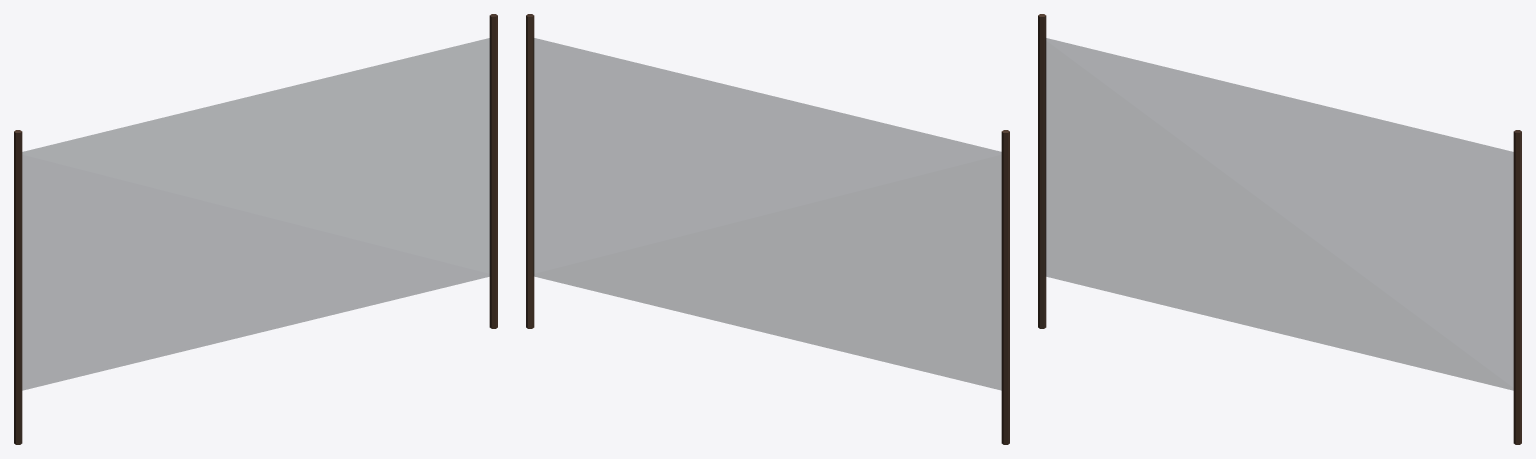
Rendered from lf_metal_fence_both_sides.glb.
The picture shows the model from 3 angles, left to right: view 1: azimuth 30°, elevation 25°; view 2: azimuth 150°, elevation 25°; view 3: azimuth 330°, elevation 25°; orthographic projection.
Visible parts, largest first — view 1: metalfence_both_sides_no_topbar; view 2: metalfence_both_sides_no_topbar; view 3: metalfence_both_sides_no_topbar.
Part boxes in pixels (bbox=[...]): metalfence_both_sides_no_topbar: bbox=[14, 14, 497, 444]; metalfence_both_sides_no_topbar: bbox=[526, 14, 1009, 444]; metalfence_both_sides_no_topbar: bbox=[1038, 14, 1521, 444].
Size of the model in its own units: 2.7 by 1.67 by 0.0401.
